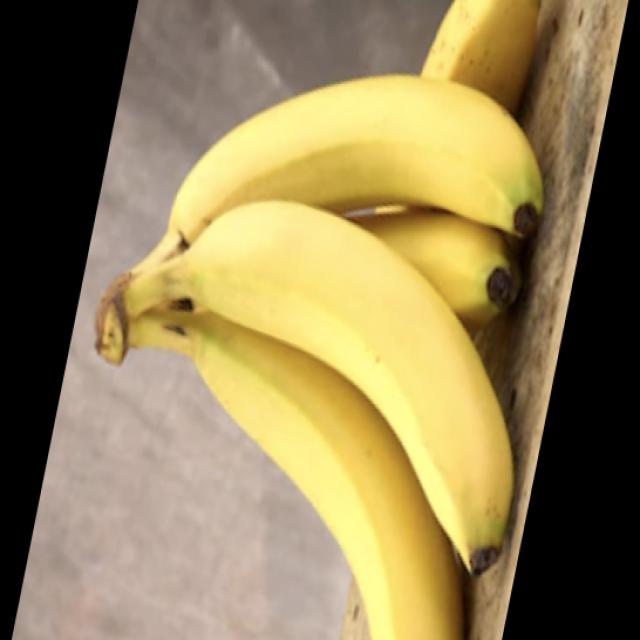god quality banana: (95, 2, 544, 639)
